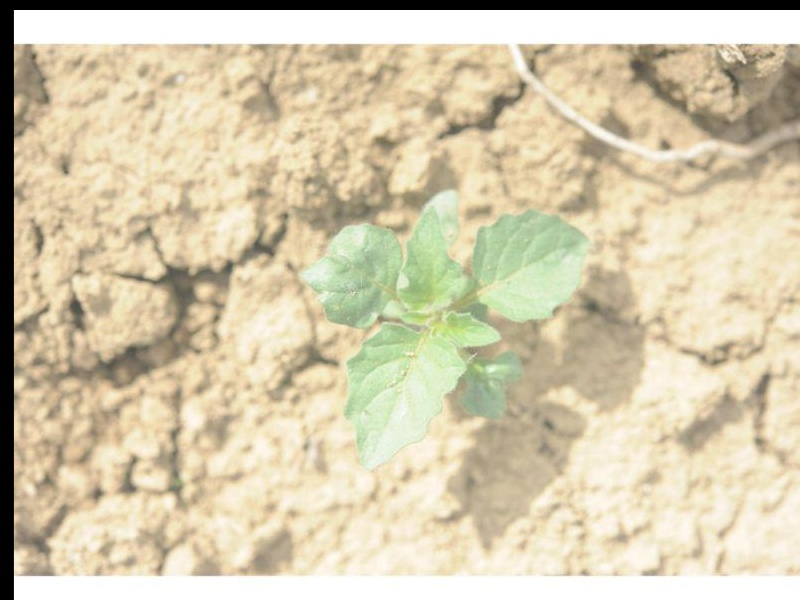nightshade: (305, 188, 587, 474)
